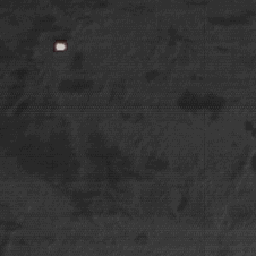Target: (54, 42, 69, 51)
